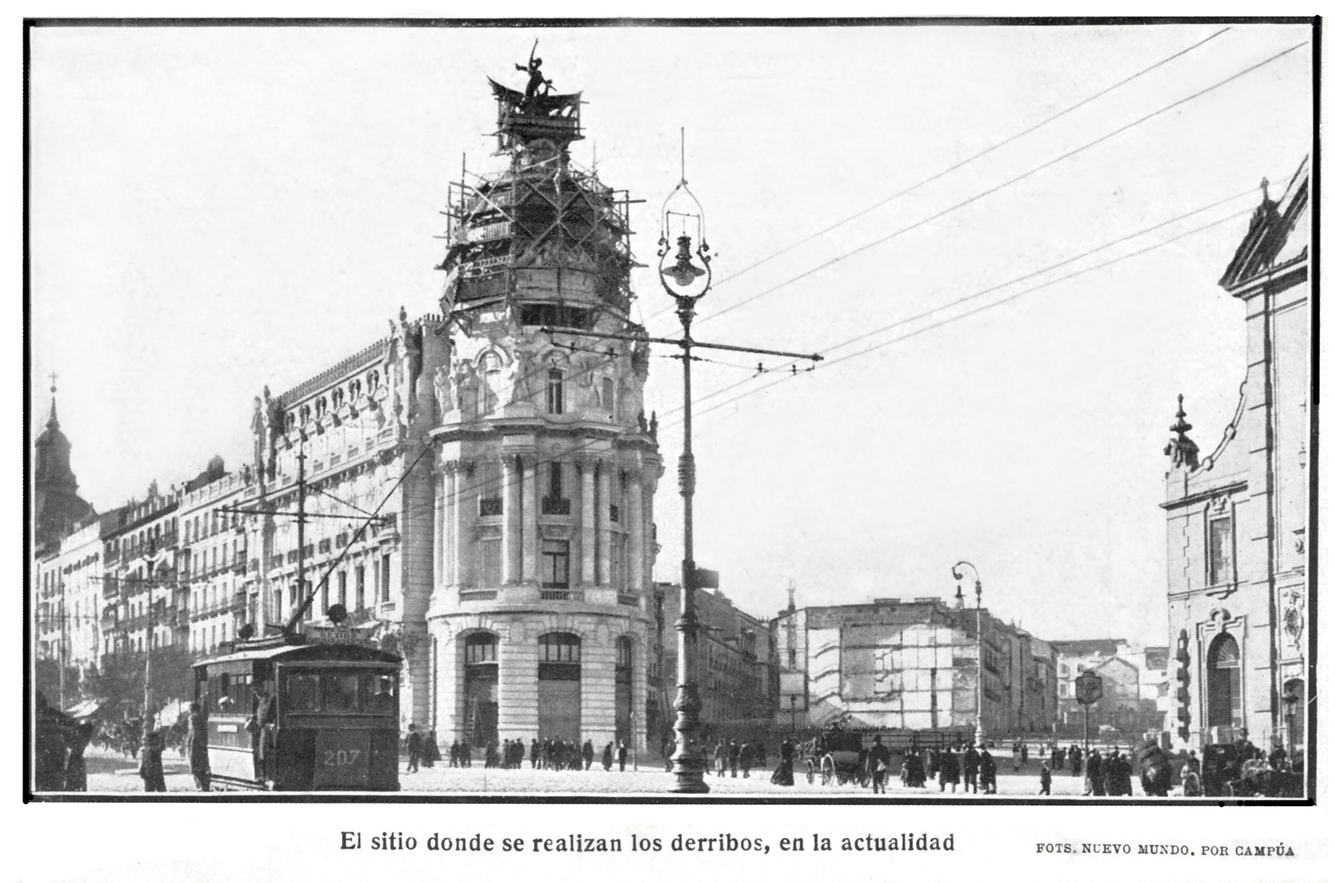fachada: (40, 79, 690, 773), (1162, 146, 1316, 815), (682, 548, 1149, 750)
poste: (559, 115, 814, 796), (227, 392, 398, 648), (98, 523, 202, 796)
